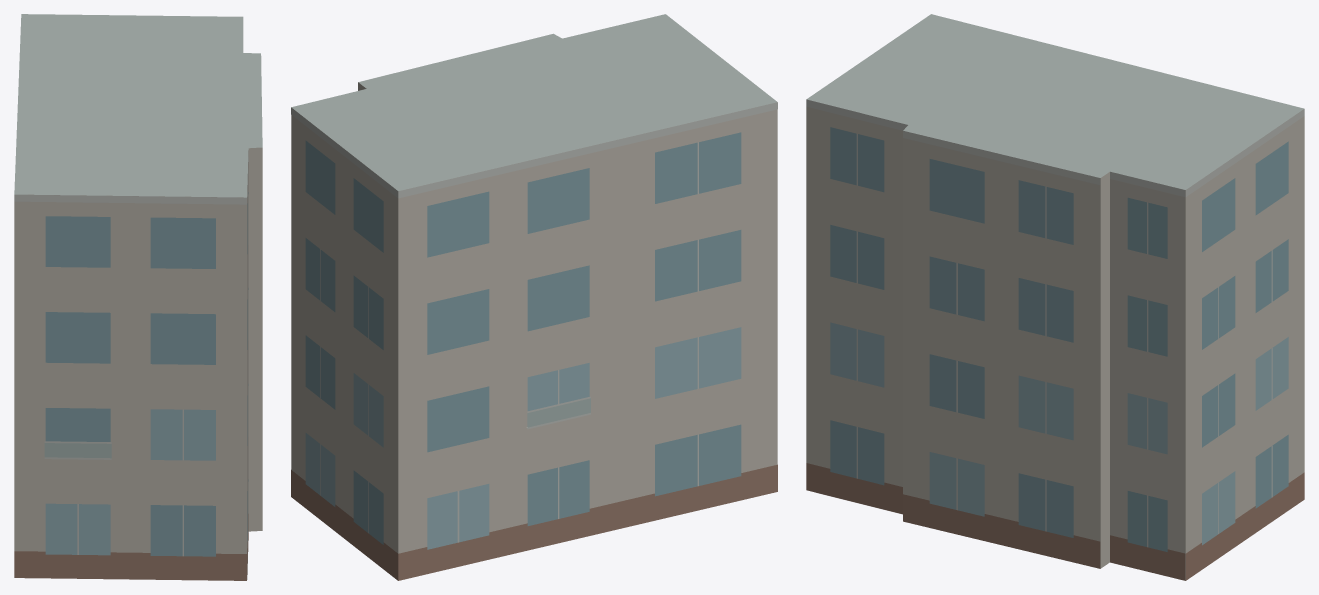
The model's file is survey-upis-32624792.glb.
3 views of the same model, side by side, from view 1: azimuth 30°, elevation 25°; view 2: azimuth 150°, elevation 25°; view 3: azimuth 270°, elevation 25° (orthographic).
Visible parts, largest first — view 1: survey-upis-32624792.tmp; view 2: survey-upis-32624792.tmp; view 3: survey-upis-32624792.tmp.
Boxes of the visible parts, bbox=[...] form: survey-upis-32624792.tmp: bbox=[14, 14, 262, 580]; survey-upis-32624792.tmp: bbox=[291, 14, 777, 580]; survey-upis-32624792.tmp: bbox=[806, 14, 1304, 580].
Size of the model in its own units: 12.77 by 13.2 by 15.27.
